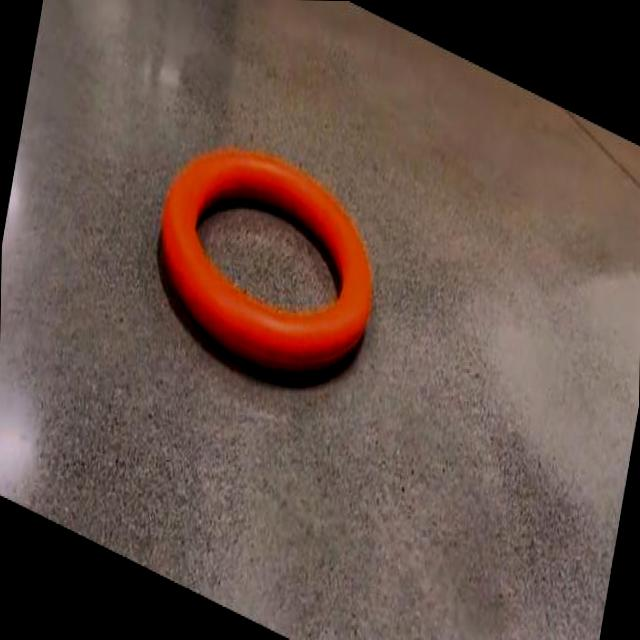note: (161, 149, 371, 374)
